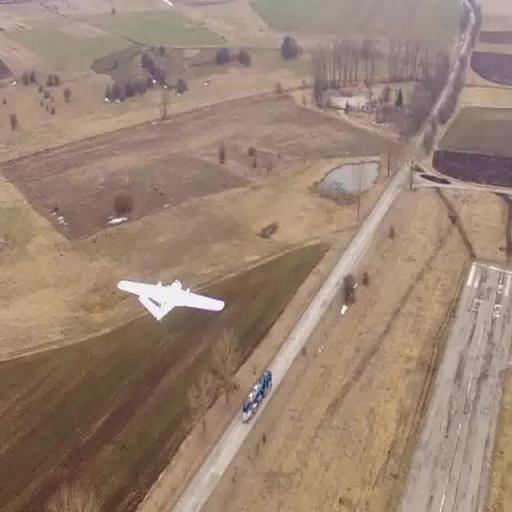uav: (116, 268, 226, 330)
